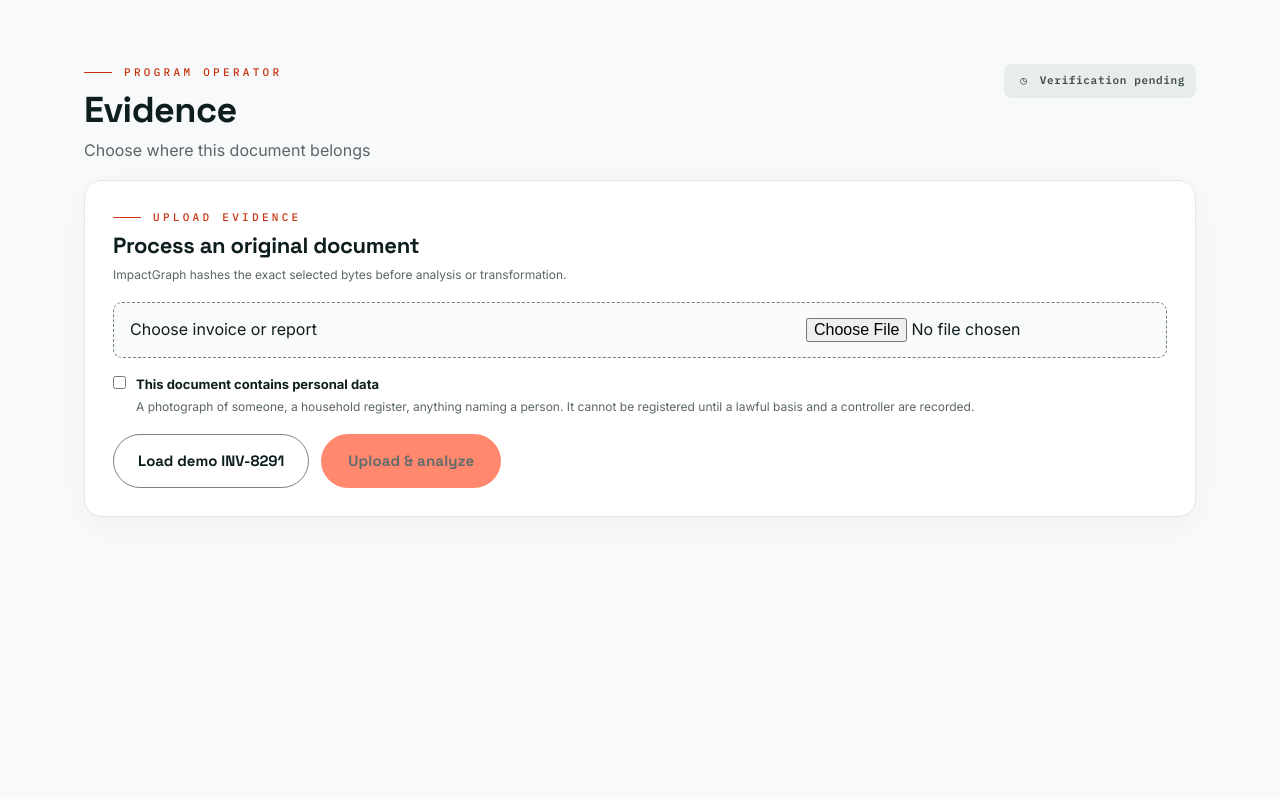
Test: operator review › leaves a field nobody was asked to check alone
Click the button "Load demo INV-8291".
click(211, 461)  # box [113,434,309,488]
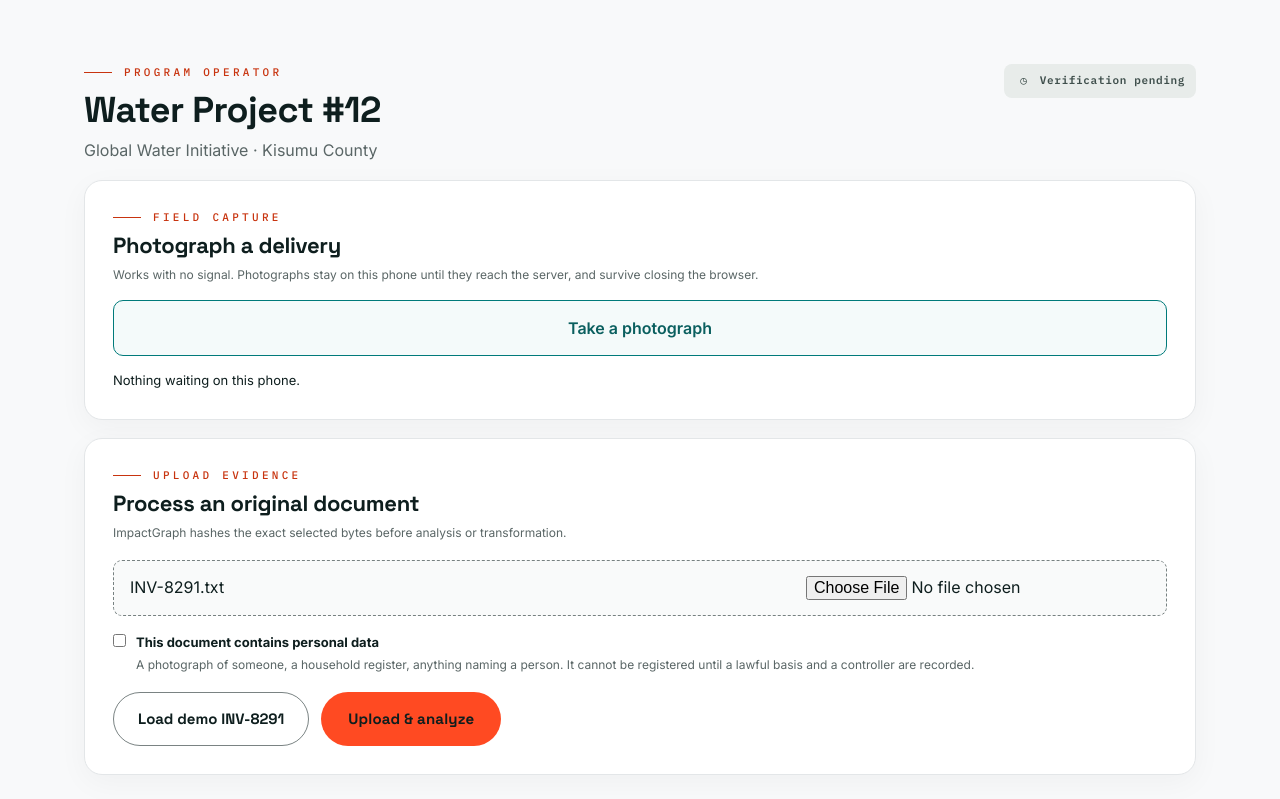
Now the button "Upload & analyze" is enabled
Click the button "Upload & analyze".
click(411, 719)  # box [321,692,501,746]
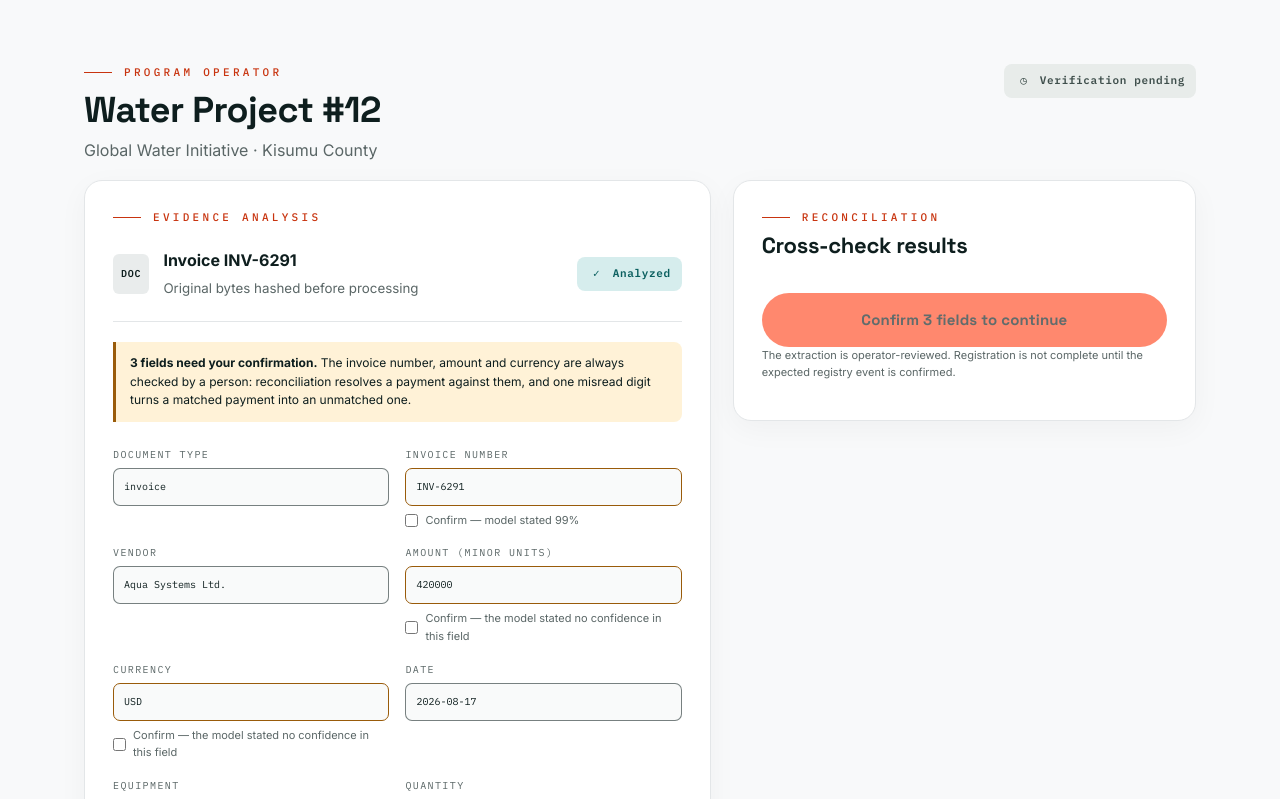
Now the field showing "INV-6291" is shown, box [405,468,682,506]
